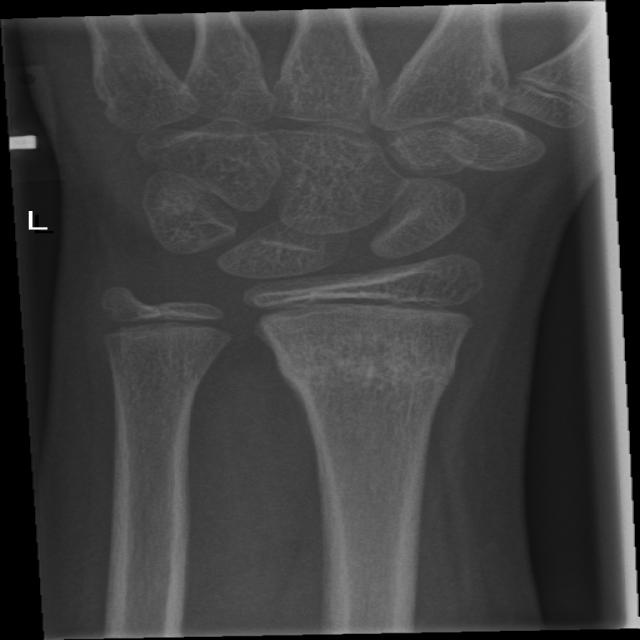radius fracture: (242, 333, 482, 446)
